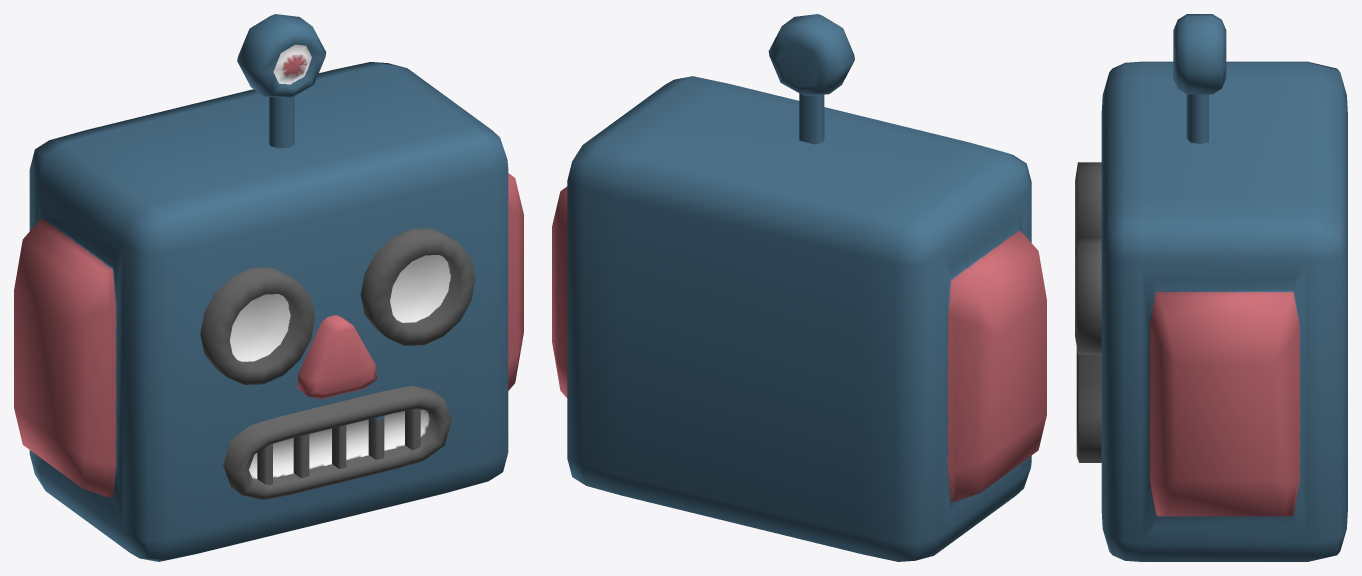
The model's file is robot-smooth.glb.
3 views of the same model, side by side, from view 1: azimuth 30°, elevation 25°; view 2: azimuth 150°, elevation 25°; view 3: azimuth 270°, elevation 25° (orthographic). The views are drawn at different scales.
Visible parts, largest first — view 1: robot; view 2: robot; view 3: robot.
Boxes of the visible parts, x1=… form: robot: x1=14, y1=14, x2=523, y2=561; robot: x1=552, y1=14, x2=1046, y2=561; robot: x1=1075, y1=14, x2=1347, y2=561.
Size of the model in its own units: 4.74 by 4.71 by 2.49.
1 material, 1 textured.
